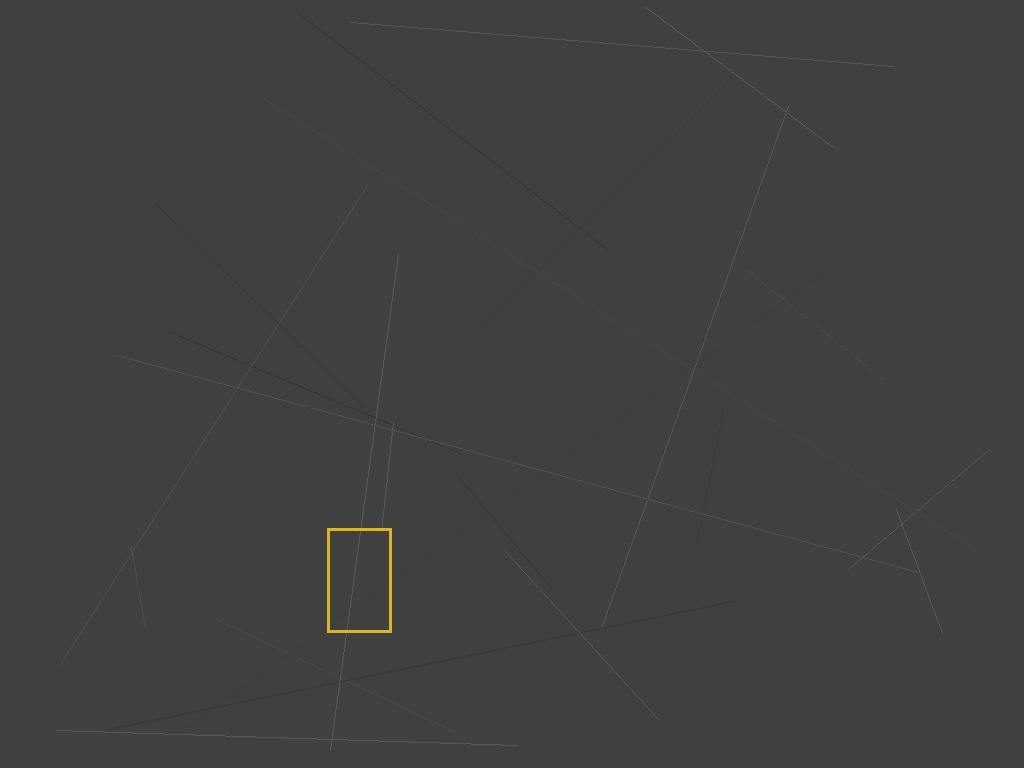D20: (327, 528, 391, 632)
